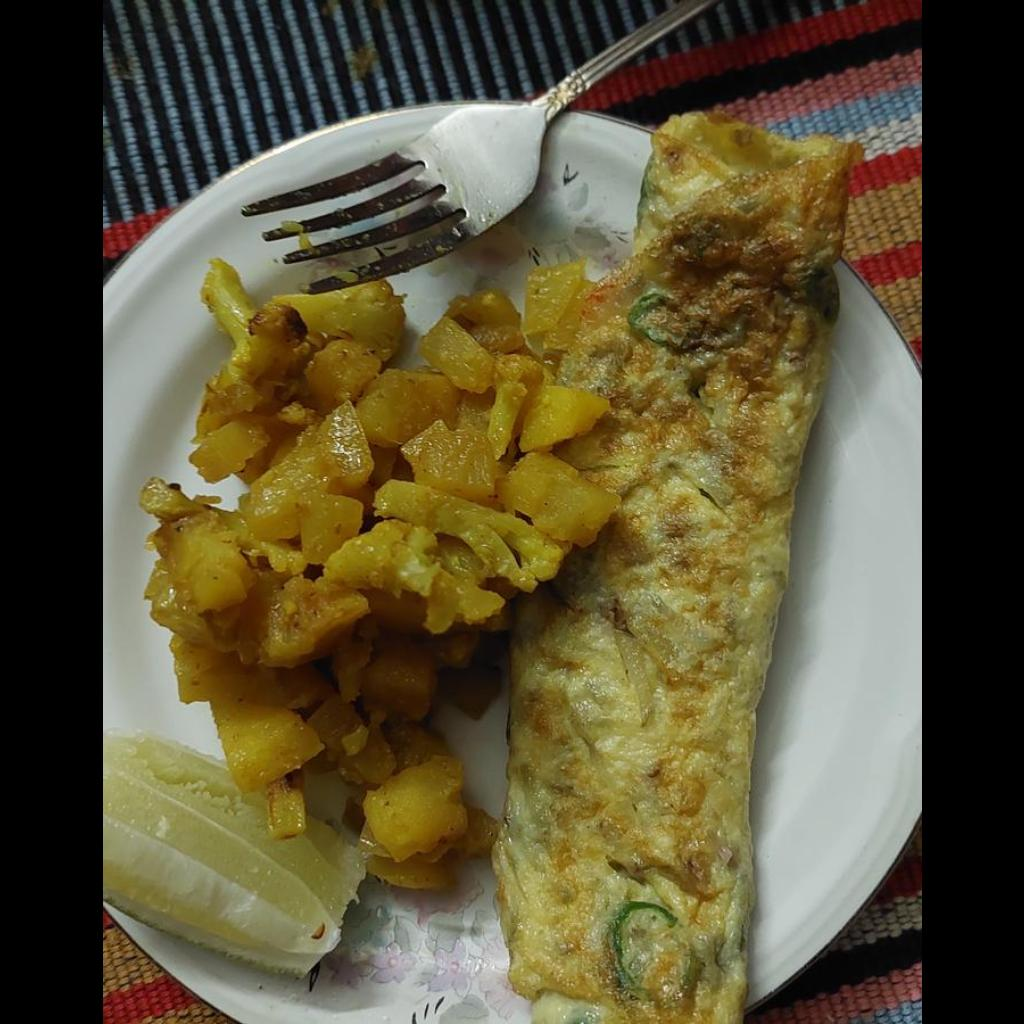egg-poached: (503, 122, 861, 1019)
lemon: (102, 735, 359, 973)
vaji: (138, 255, 609, 897)
